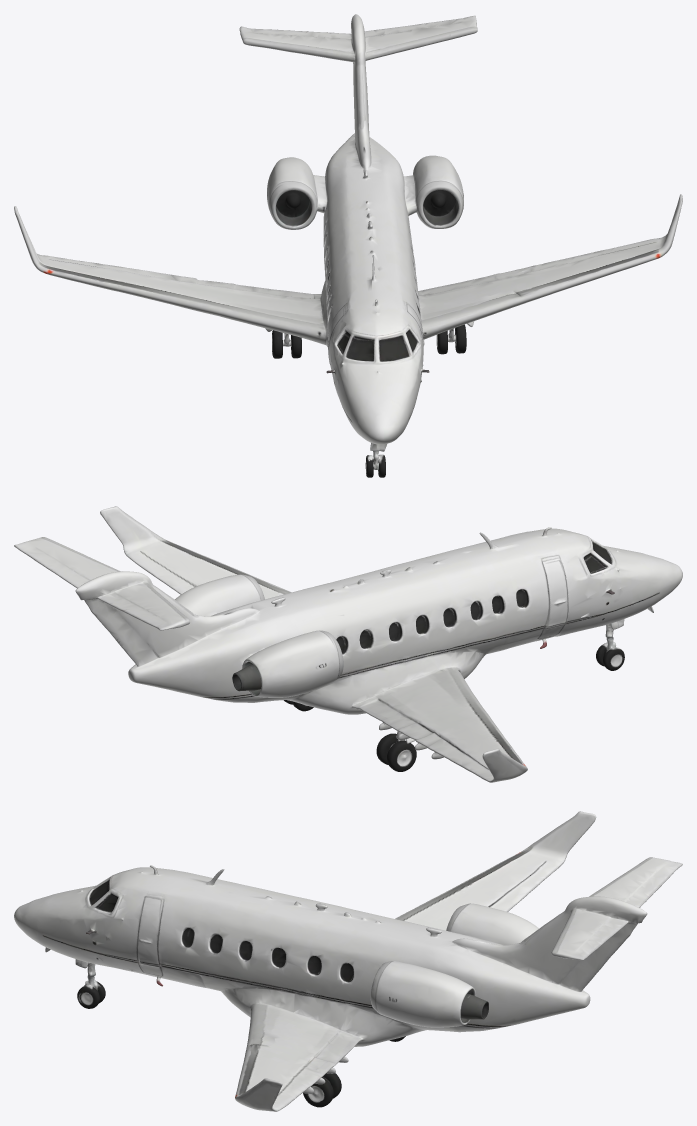
The model's file is 097_private_jet_white.glb.
3 views of the same model, one above another, from view 1: azimuth 30°, elevation 25°; view 2: azimuth 150°, elevation 25°; view 3: azimuth 270°, elevation 25° (orthographic). The views are drawn at different scales.
Parts seen in each view (by area): view 1: geometry_0; view 2: geometry_0; view 3: geometry_0.
Part boxes in pixels (bbox=[...]): geometry_0: bbox=[14, 14, 682, 477]; geometry_0: bbox=[14, 506, 682, 782]; geometry_0: bbox=[14, 811, 682, 1111].
Bounding box in the file's own units: 15.23 × 5.99 × 16.
1 material, 1 textured.
